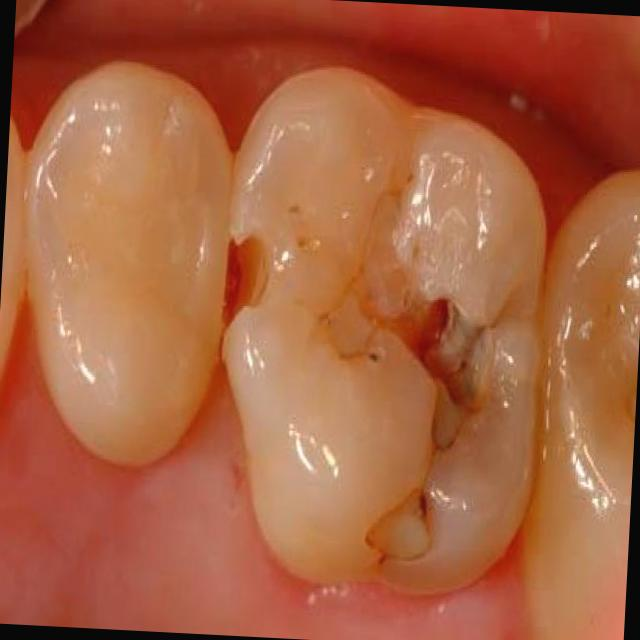caries: (214, 63, 556, 596)
